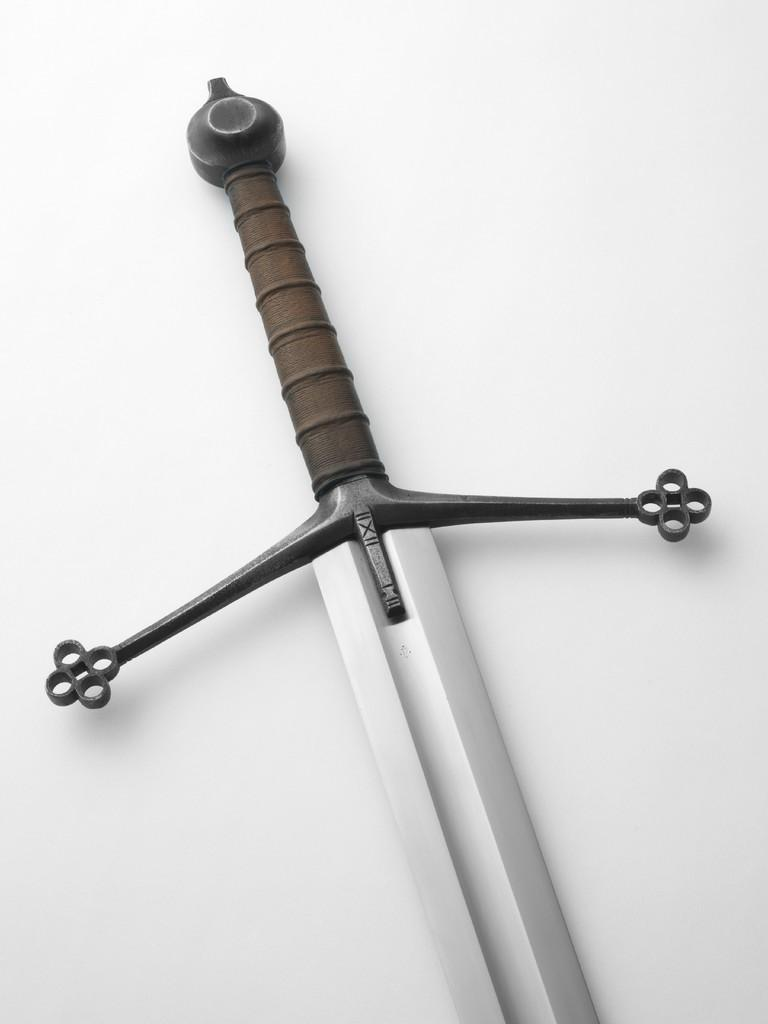Sword: (47, 74, 713, 1023)
